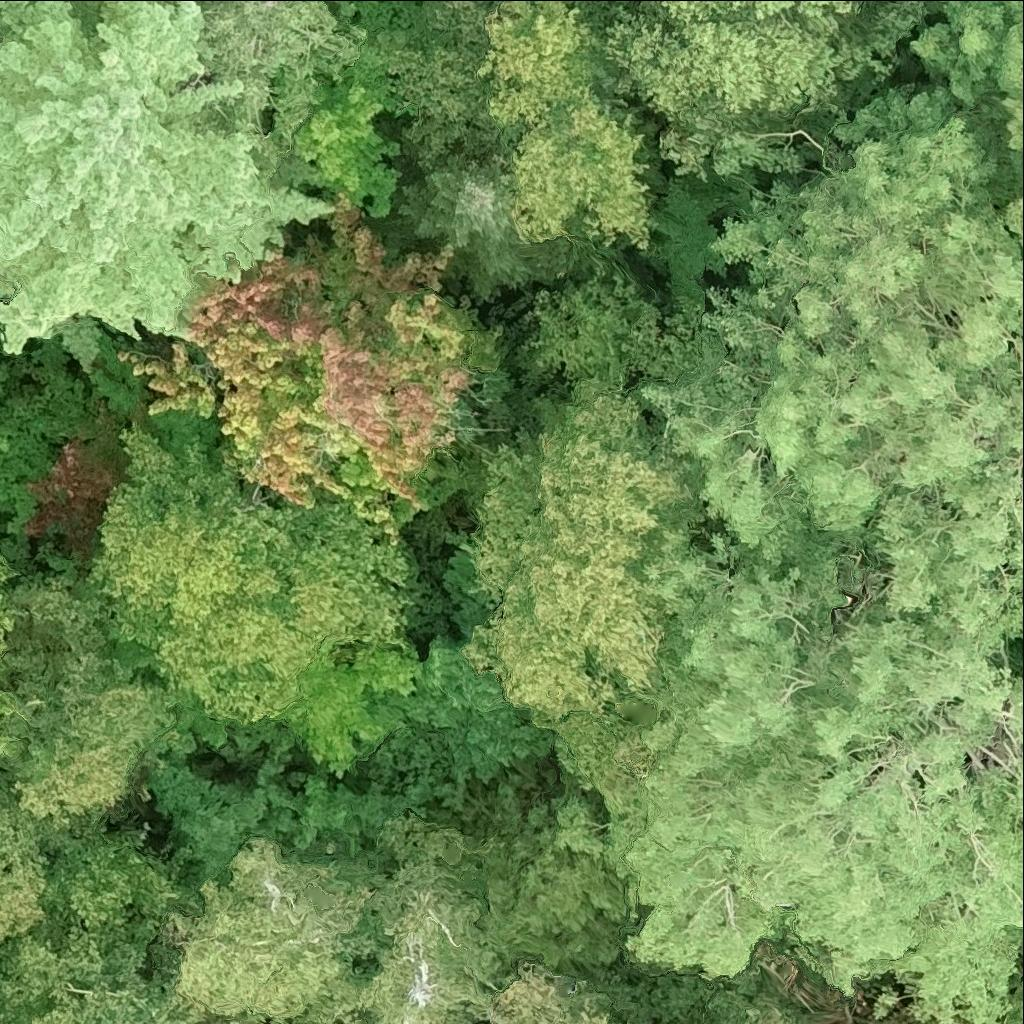crown: (650, 0, 1023, 670), (614, 544, 1023, 1023), (128, 196, 501, 529), (0, 0, 333, 352), (467, 396, 742, 798), (88, 421, 412, 725), (604, 9, 884, 175), (171, 842, 406, 1023), (481, 0, 651, 247), (173, 0, 367, 193), (15, 635, 200, 828), (296, 0, 402, 217), (365, 881, 518, 1023), (0, 926, 210, 1023), (398, 153, 529, 295), (285, 641, 419, 774), (480, 972, 614, 1023), (0, 805, 47, 943), (646, 0, 869, 24), (989, 980, 1023, 1023), (67, 0, 105, 37), (0, 595, 15, 651), (0, 552, 15, 588), (0, 690, 15, 723), (0, 10, 11, 44), (159, 0, 188, 12), (732, 1016, 779, 1023), (0, 735, 15, 756), (0, 425, 8, 453)
